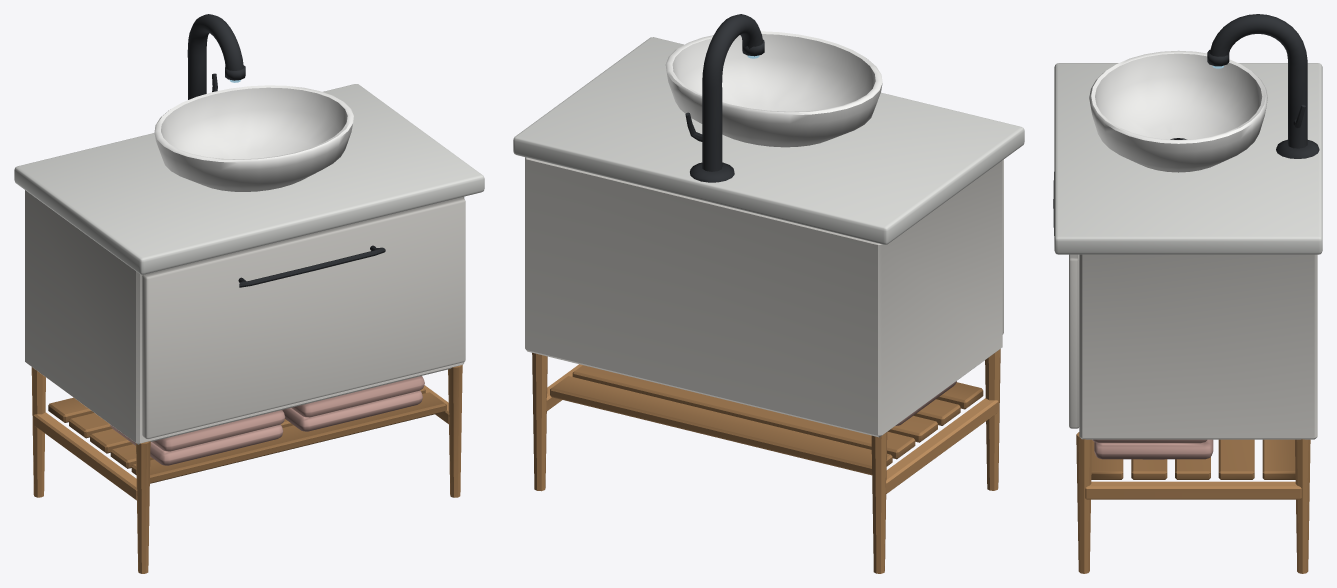
The model's file is sinkVessel.glb.
3 views of the same model, side by side, from view 1: azimuth 30°, elevation 25°; view 2: azimuth 150°, elevation 25°; view 3: azimuth 270°, elevation 25° (orthographic). The views are drawn at different scales.
Visible parts, largest first — view 1: body; view 2: body; view 3: body.
Part boxes in pixels (bbox=[...]): body: bbox=[14, 14, 484, 573]; body: bbox=[513, 14, 1024, 573]; body: bbox=[1053, 14, 1322, 573].
Bounding box in the file's own units: 0.84 × 1.06 × 0.5421.
